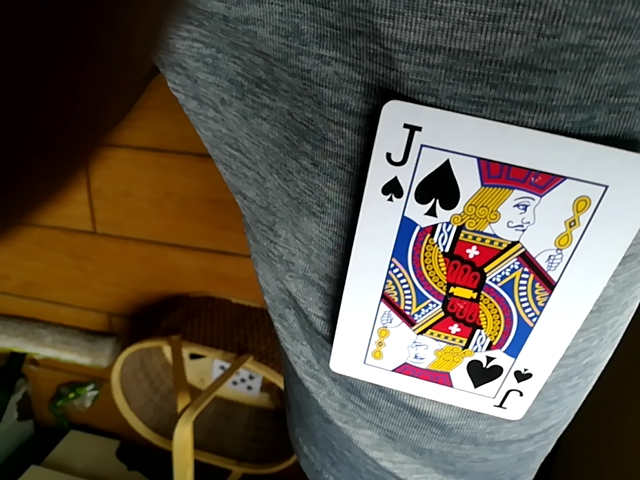ht j: (325, 92, 638, 426)
